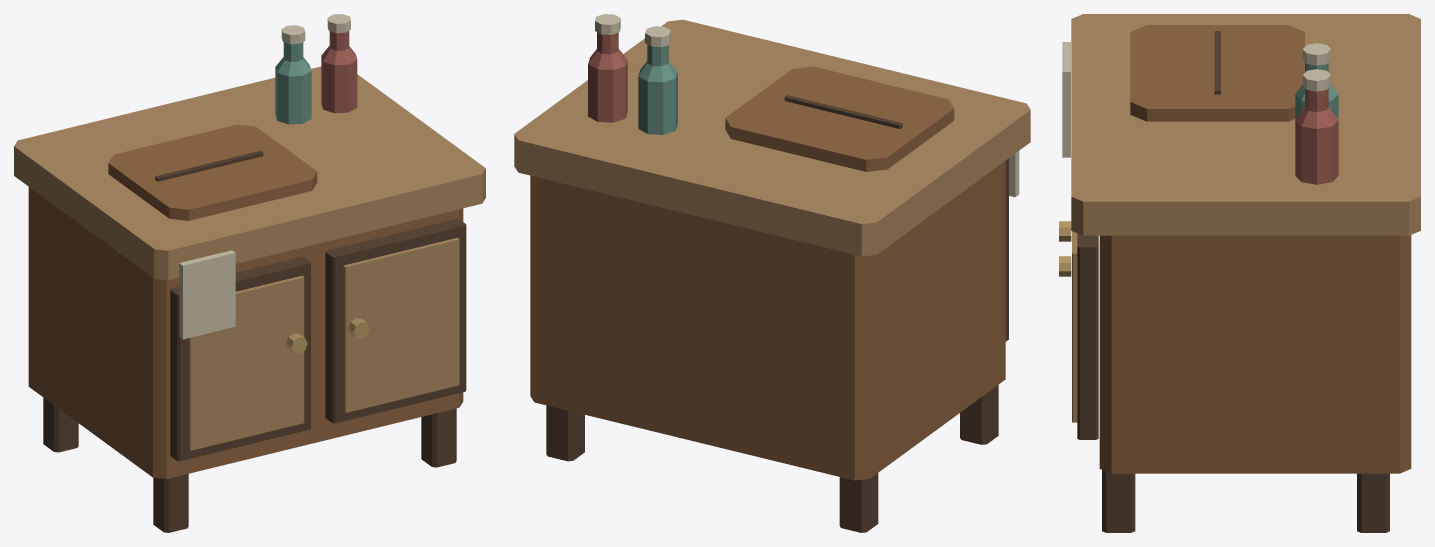
The model's file is kitchen_counter.glb.
The picture shows the model from 3 angles, left to right: view 1: azimuth 30°, elevation 25°; view 2: azimuth 150°, elevation 25°; view 3: azimuth 270°, elevation 25°; orthographic projection. The views are drawn at different scales.
Visible parts, largest first — view 1: geometry; view 2: geometry; view 3: geometry.
Part boxes in pixels (x1,y1,x2,y2): geometry: (14,14,485,532); geometry: (514,14,1030,532); geometry: (1059,14,1420,532).
Size of the model in its own units: 0.94 by 1.03 by 0.766.
